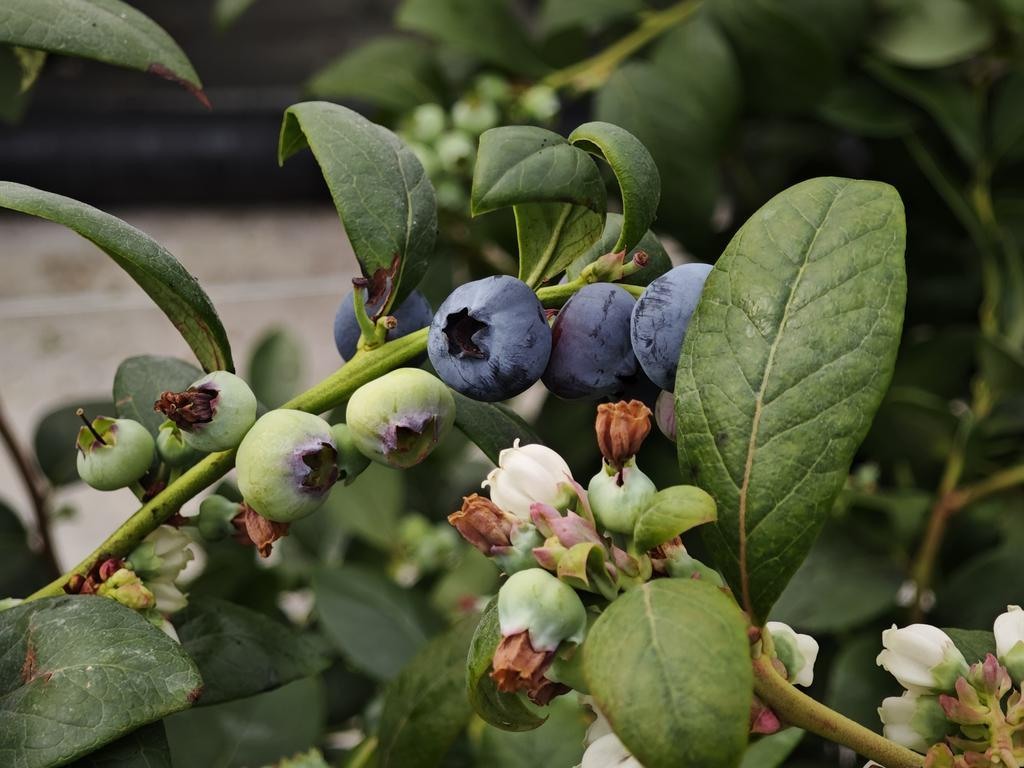RipeBlueBerry: (426, 276, 552, 402), (632, 261, 712, 392), (554, 283, 635, 403)
UnripeBlueBerry: (236, 405, 342, 523), (346, 368, 456, 470)
